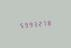eight: (47, 18, 51, 26)
five: (17, 21, 21, 29)
nine: (27, 20, 31, 28), (22, 21, 26, 28)
seven: (42, 19, 46, 26)
three: (32, 20, 36, 27)
two: (37, 19, 41, 27)
